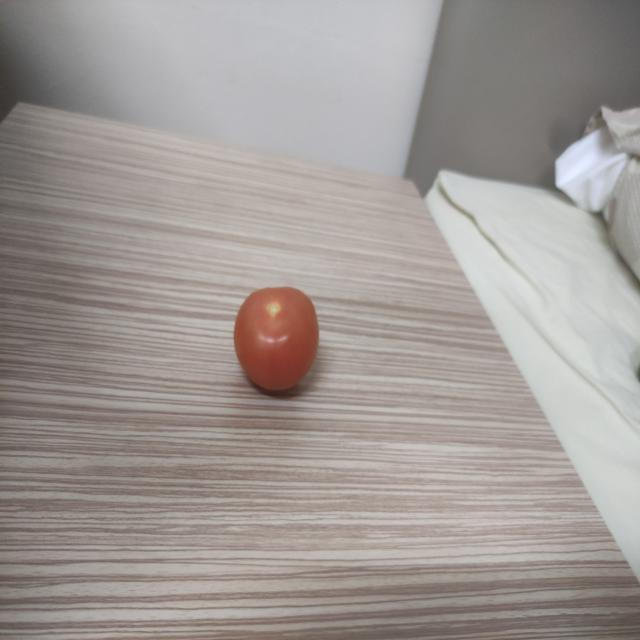sari: (227, 282, 338, 400)
